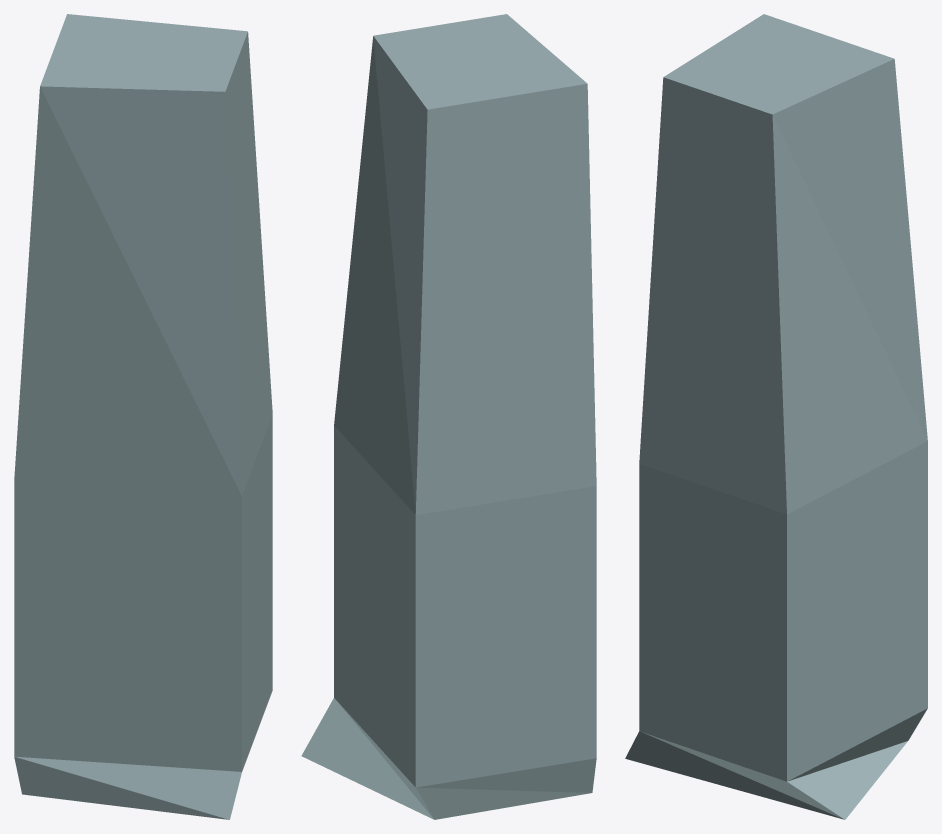
Rendered from mcity-m3-upper-envelope.glb.
3 renders of one model, left to right at view 1: azimuth 30°, elevation 25°; view 2: azimuth 150°, elevation 25°; view 3: azimuth 270°, elevation 25°, orthographic. The views are drawn at different scales.
Visible parts, largest first — view 1: mcity-3-plan-derived-upper-envelope; view 2: mcity-3-plan-derived-upper-envelope; view 3: mcity-3-plan-derived-upper-envelope.
Boxes of the visible parts, left/top/right/bottom form: mcity-3-plan-derived-upper-envelope: left=14, top=14, right=272, bottom=819; mcity-3-plan-derived-upper-envelope: left=301, top=14, right=596, bottom=819; mcity-3-plan-derived-upper-envelope: left=625, top=14, right=927, bottom=819.
Size of the model in its own units: 51.22 by 131 by 52.22.
